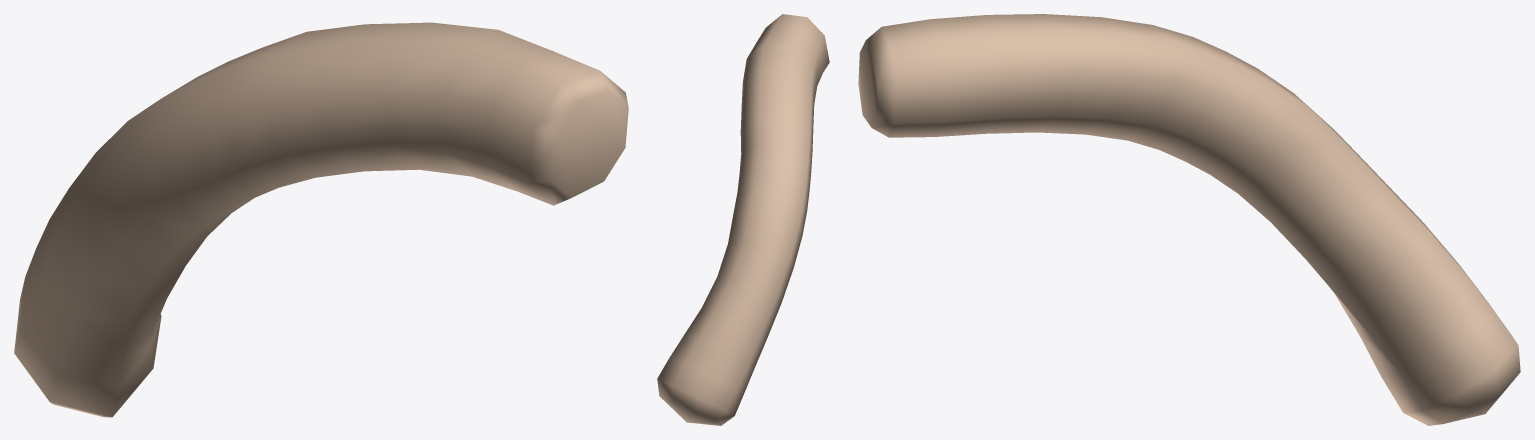
The picture shows the model from 3 angles, left to right: view 1: azimuth 30°, elevation 25°; view 2: azimuth 150°, elevation 25°; view 3: azimuth 270°, elevation 25°; orthographic projection. The views are drawn at different scales.
Visible parts, largest first — view 1: 左侧胫骨后肌腱鞘; view 2: 左侧胫骨后肌腱鞘; view 3: 左侧胫骨后肌腱鞘.
Boxes of the visible parts, x1,y1,x2,y2 form: 左侧胫骨后肌腱鞘: (14, 22, 628, 417); 左侧胫骨后肌腱鞘: (657, 14, 829, 425); 左侧胫骨后肌腱鞘: (858, 14, 1520, 425).
Bounding box in the file's own units: 0.025 × 0.0442 × 0.0584.
